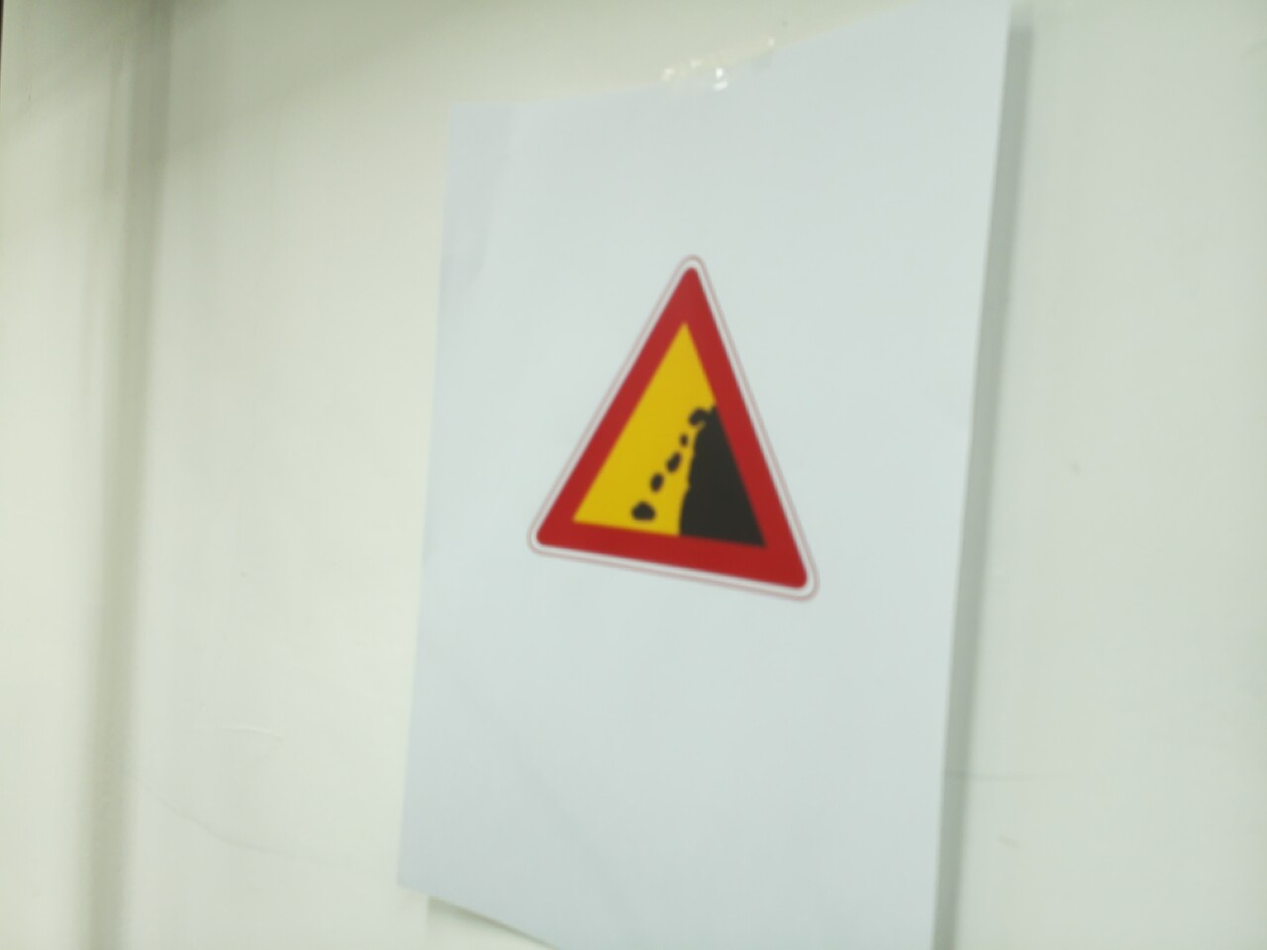falling_rocks: (528, 257, 816, 598)
